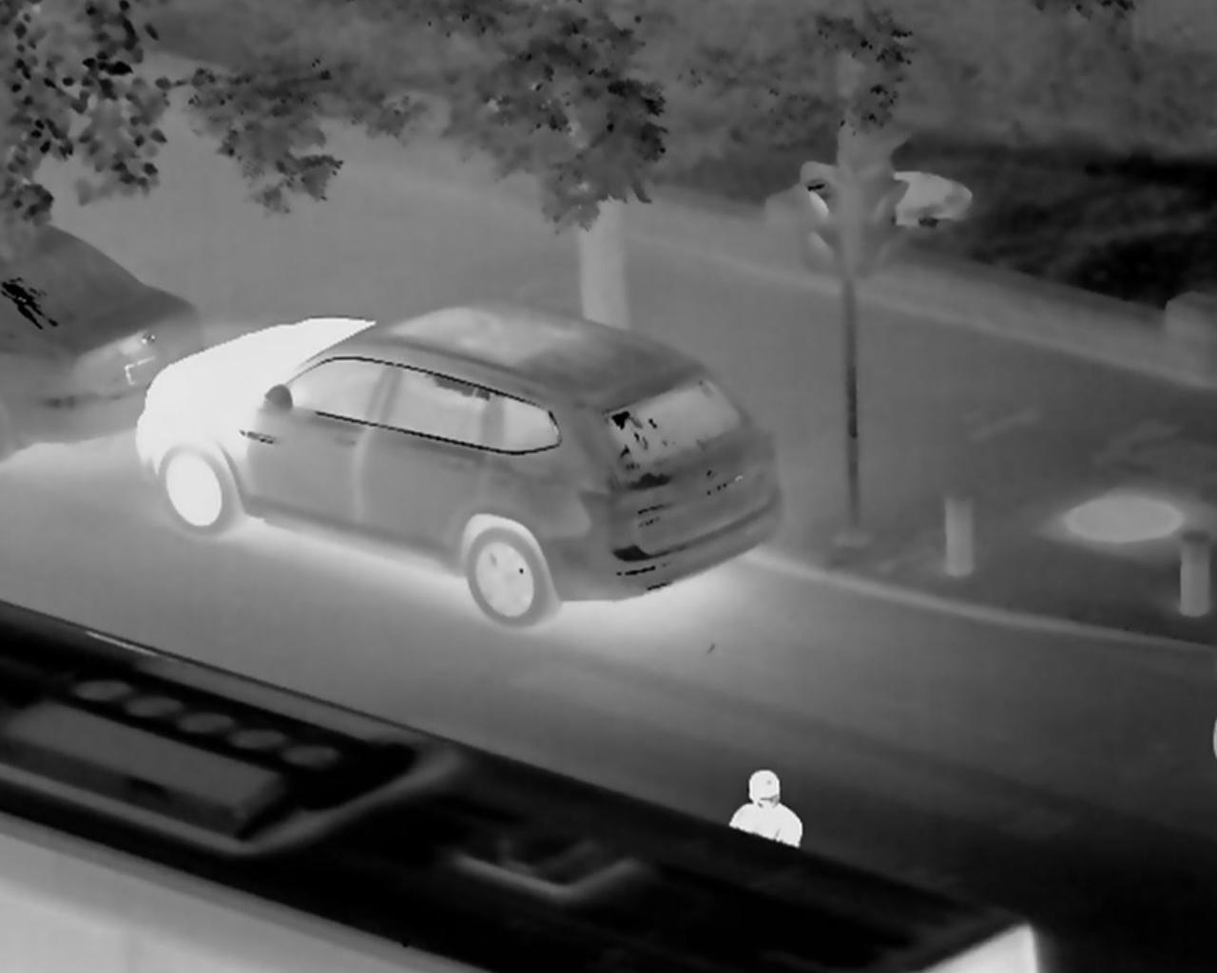person: (719, 755, 814, 845)
